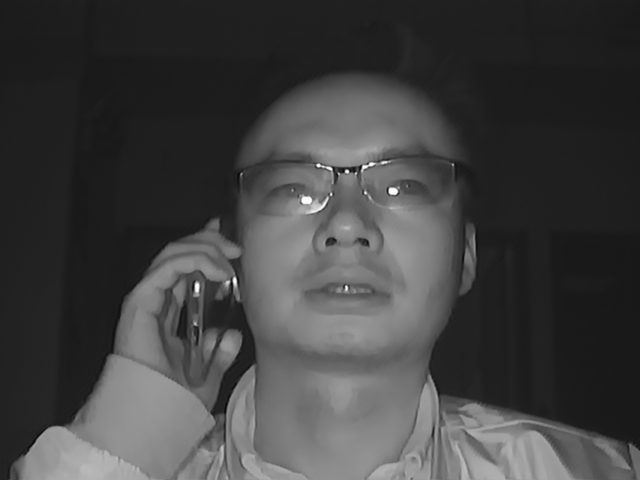hand: (119, 217, 238, 389)
